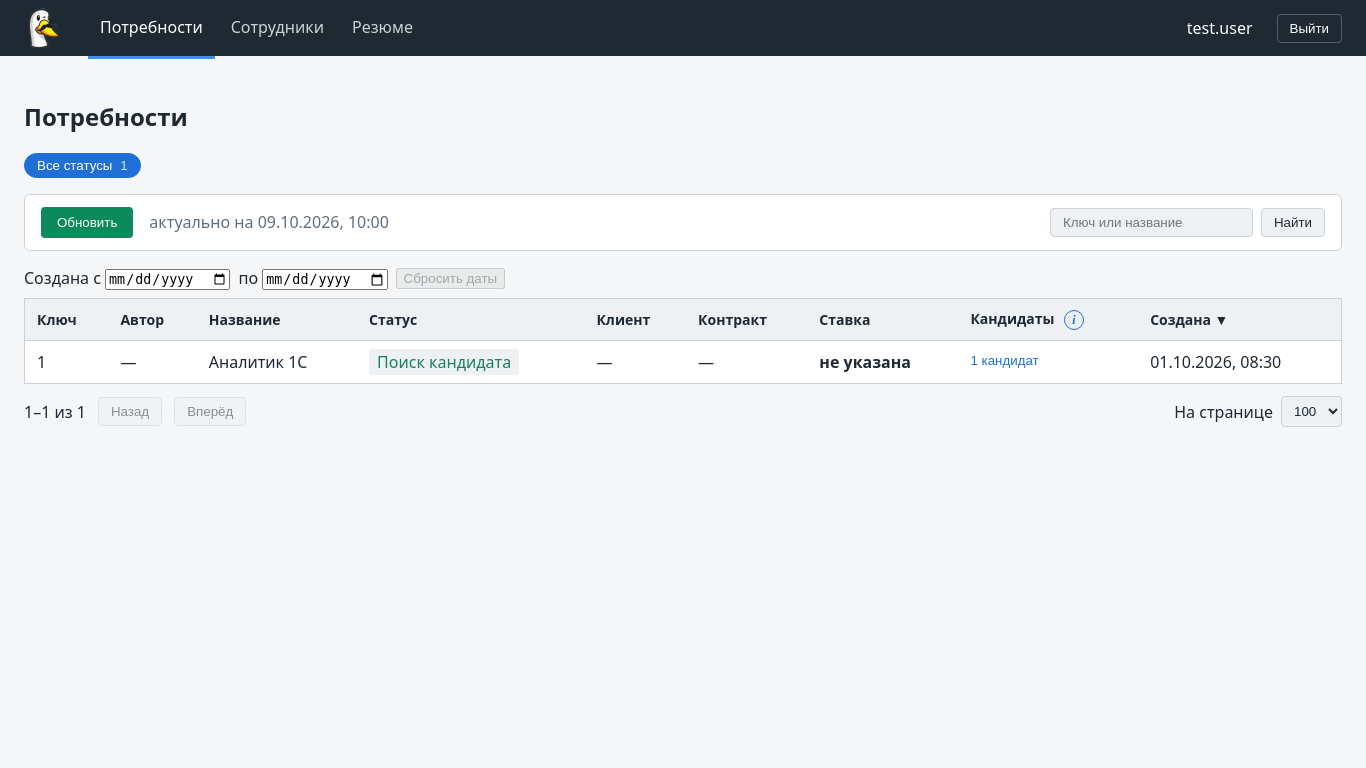
Scenario: Потребности: сопоставление › обоснование и рекомендации видны сразу; метка устаревшего результата
Click the button with aria-label "1 кандидат, AN-1". click: (1005, 361)
box: top-left (970, 351), bottom-right (1039, 370)
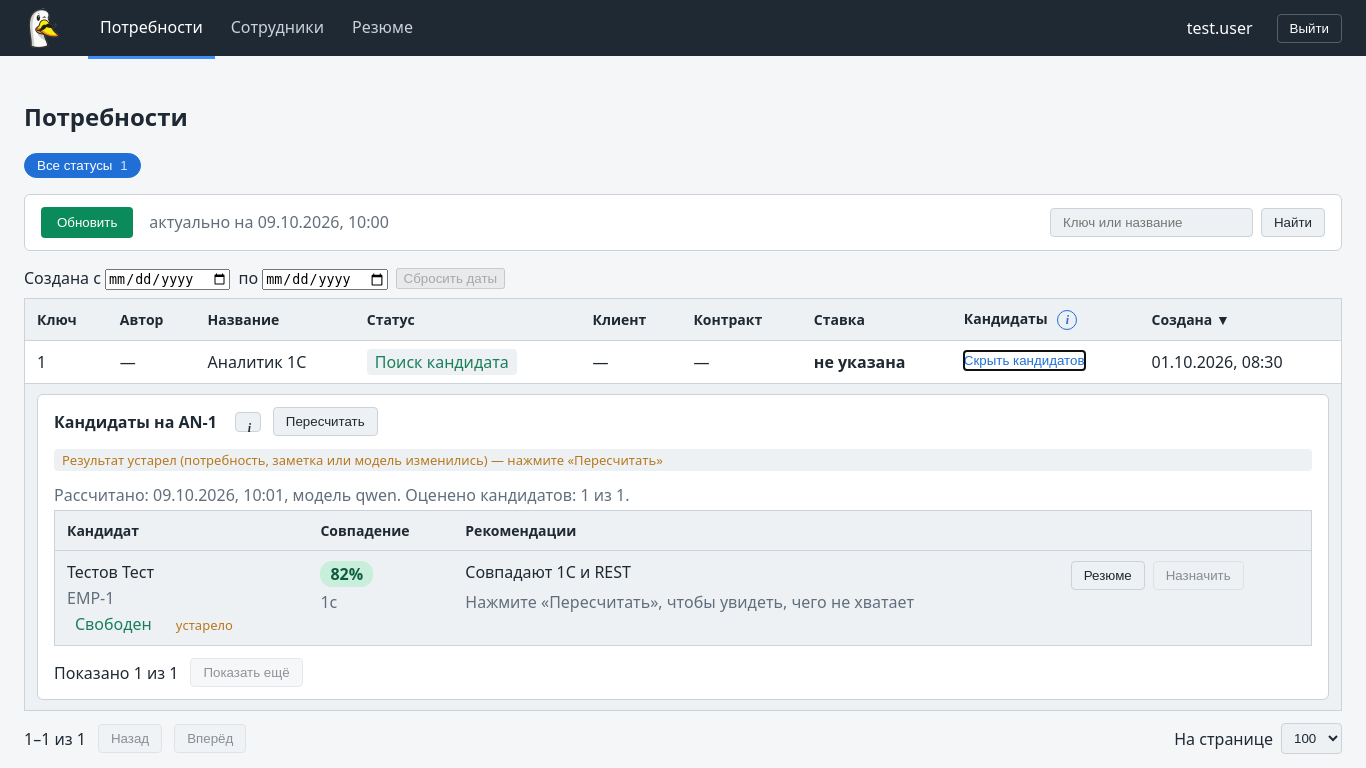
Check: the text "Тестов Тест" is shown, box top-left (67, 561), bottom-right (154, 583)
Check: the text "Совпадают 1С и REST" is shown, box top-left (465, 561), bottom-right (631, 583)
Check: the column heading "Рекомендации" is shown, box top-left (453, 511), bottom-right (1059, 551)
